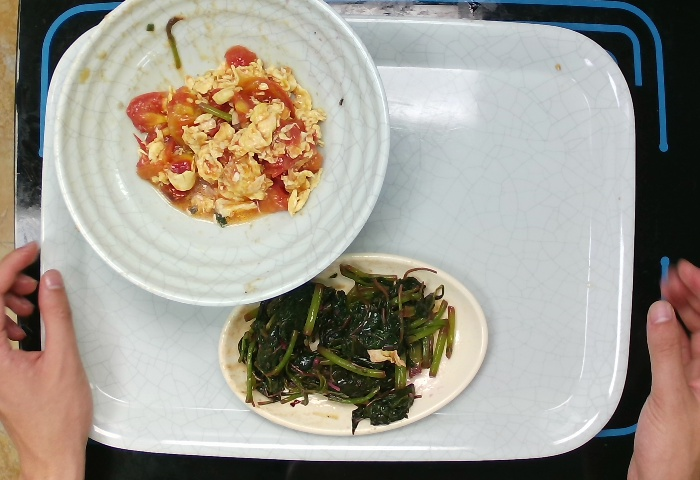JYsf-Da_Tang_Wan: (43, 1, 397, 313)
JYsf-Tuo_Yuan_Wan: (211, 247, 494, 441)
